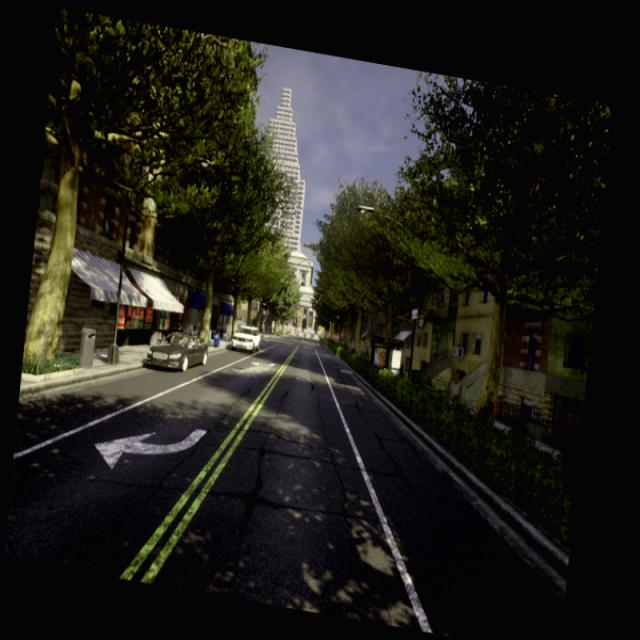stop sign: (327, 329, 342, 348)
